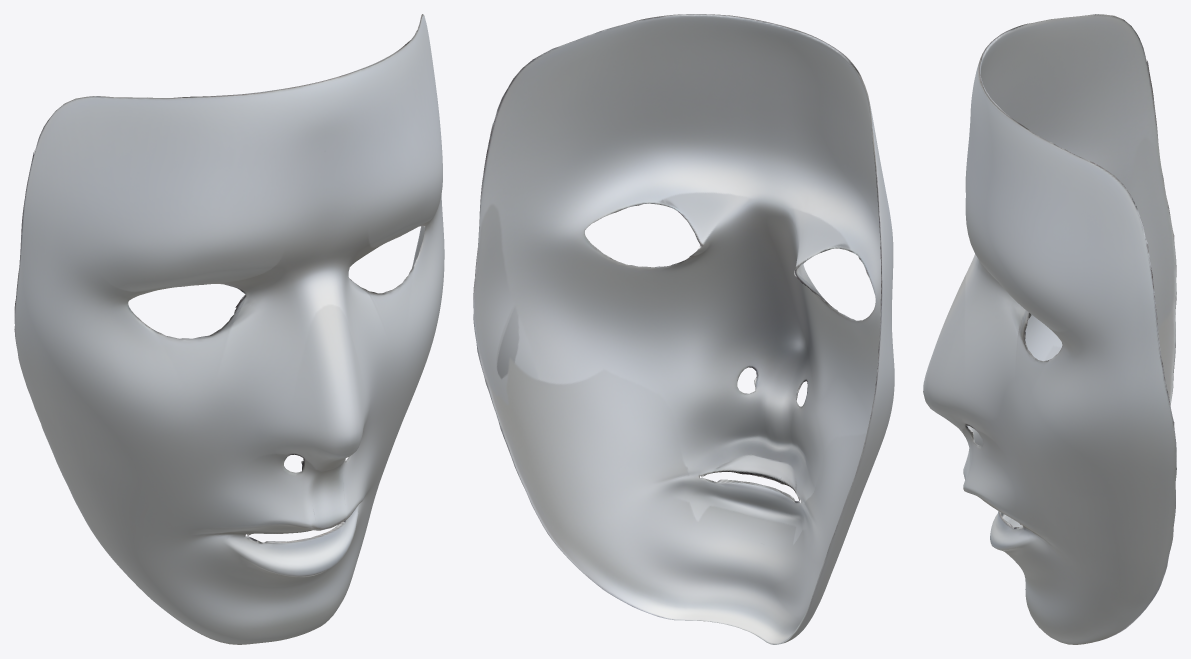
The model's file is Blank_Mask_g.glb.
The picture shows the model from 3 angles, left to right: view 1: azimuth 30°, elevation 25°; view 2: azimuth 150°, elevation 25°; view 3: azimuth 270°, elevation 25°; orthographic projection. The views are drawn at different scales.
Parts seen in each view (by area): view 1: model; view 2: model; view 3: model.
Part boxes in pixels (x1=…): model: x1=14, y1=14, x2=444, y2=644; model: x1=473, y1=14, x2=894, y2=644; model: x1=923, y1=14, x2=1176, y2=644.
Size of the model in its own units: 1.4 by 1.9 by 0.7928.
1 material, 1 textured.
